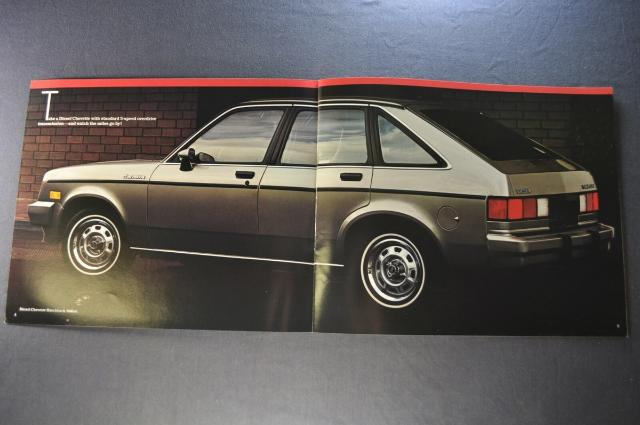chevette-1983: (29, 78, 620, 331)
